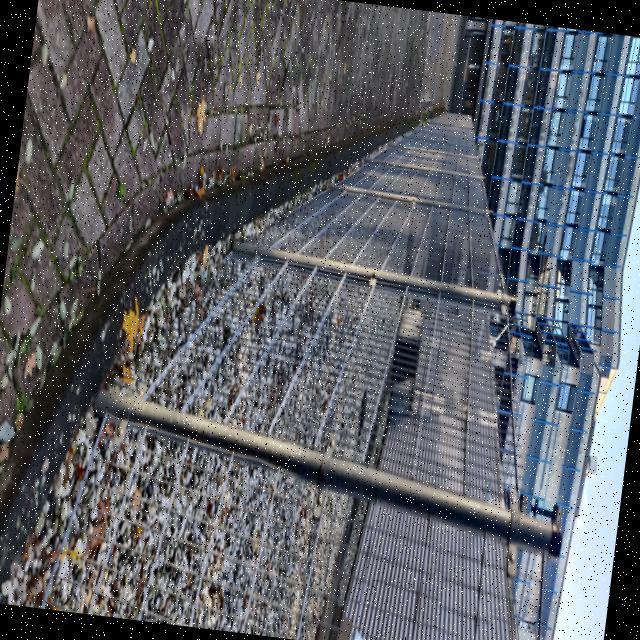fence line: (0, 394, 559, 639), (117, 228, 525, 492), (284, 61, 508, 323)
